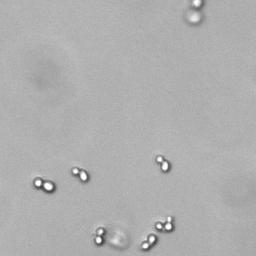budding: (29, 172, 59, 195), (69, 162, 92, 185), (150, 151, 173, 174), (154, 212, 177, 232), (91, 223, 108, 246), (140, 231, 159, 251)
